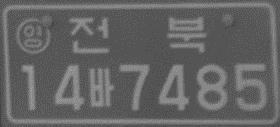1: (16, 63, 46, 111)
4: (53, 64, 84, 111), (158, 63, 188, 111)
5: (233, 62, 269, 113)
7: (118, 62, 150, 111)
8: (195, 63, 228, 111)
바: (87, 67, 115, 108)
영: (14, 17, 51, 56)
전북_D: (68, 15, 206, 55)
